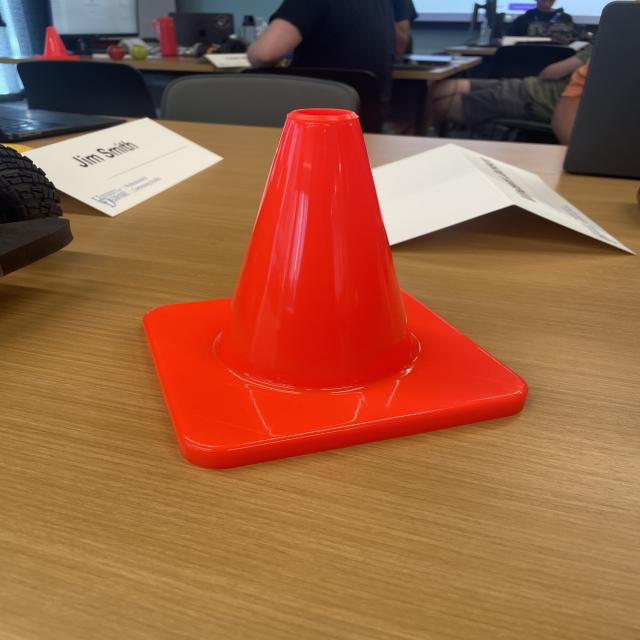Traffic Cone: (142, 108, 528, 471)
